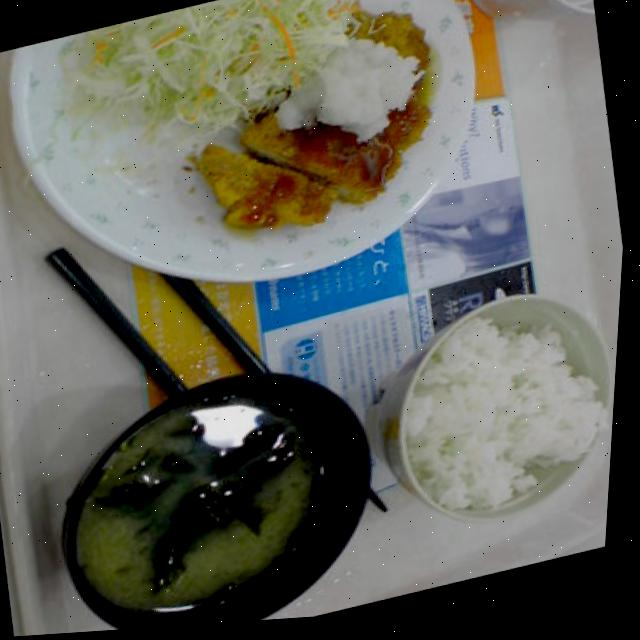汤锅炖物: (28, 331, 422, 637)
米饭主食: (339, 274, 626, 559)
蔬菜料理: (63, 0, 391, 164)
